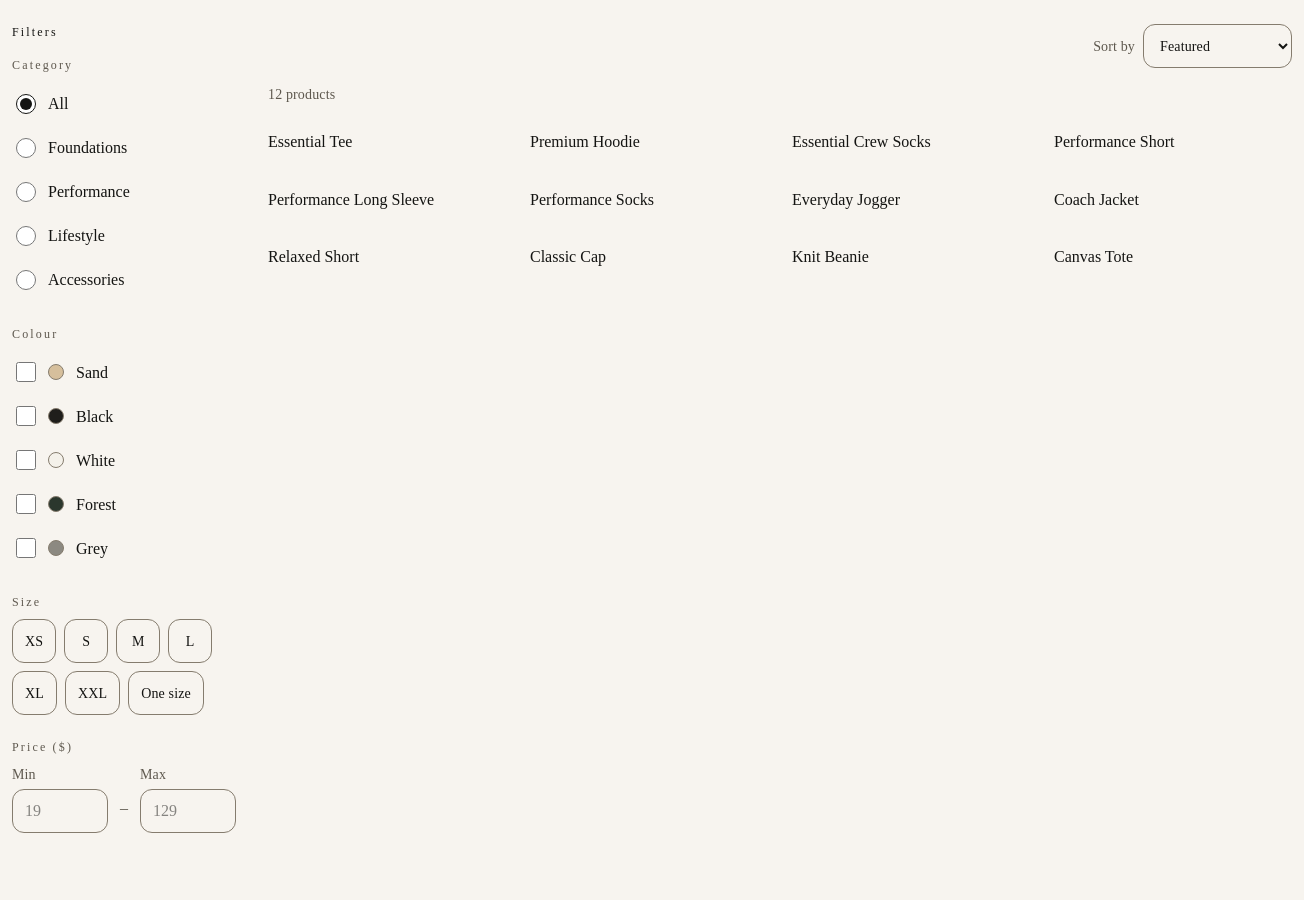
price range (FR-021) › accepts digits only
Type "1a2.5-" into the field labelled "Min". click: (60, 811)
box: [12, 789, 108, 833]
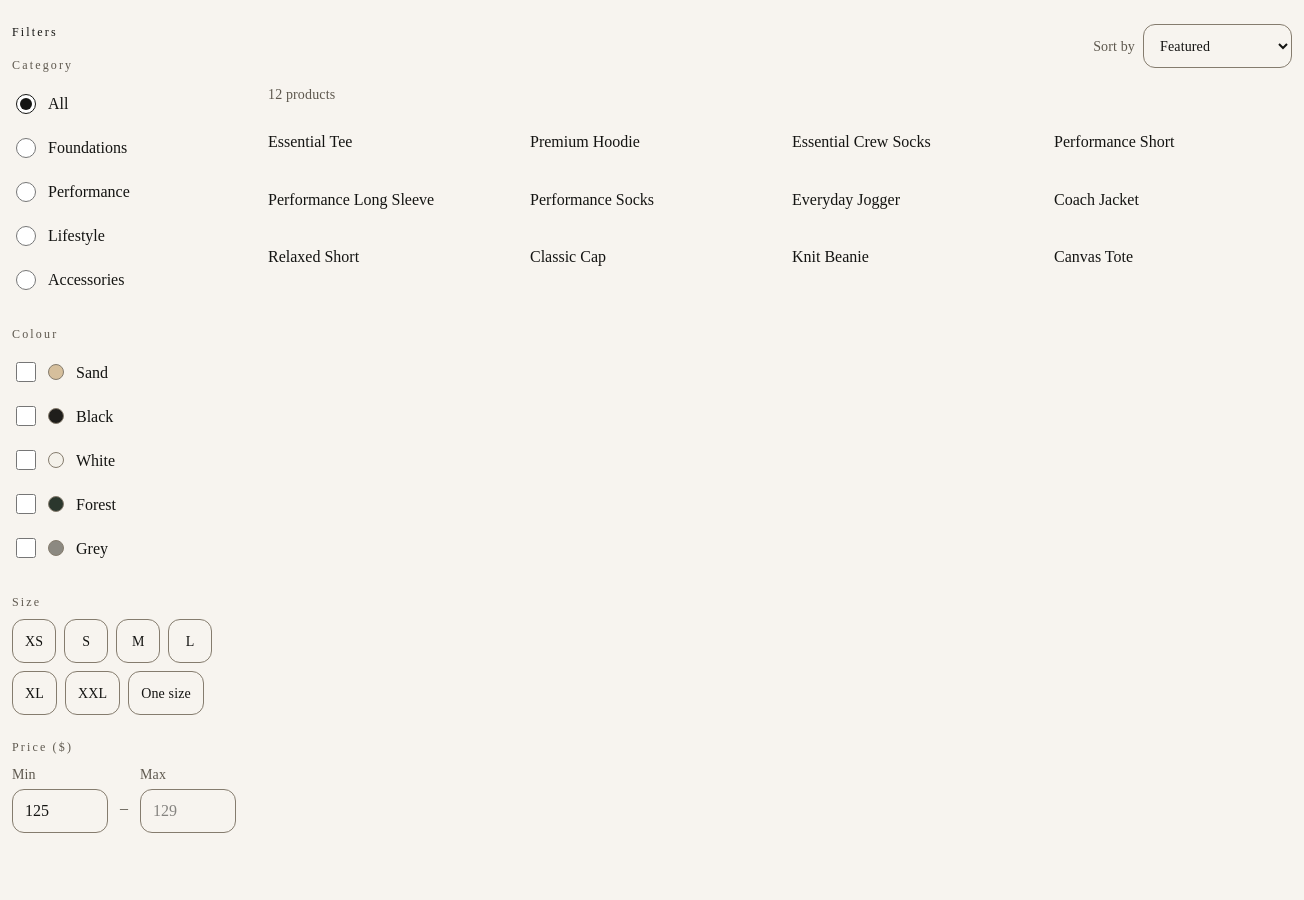
Check: the field labelled "Min" holds "125", box [12, 789, 108, 833]
